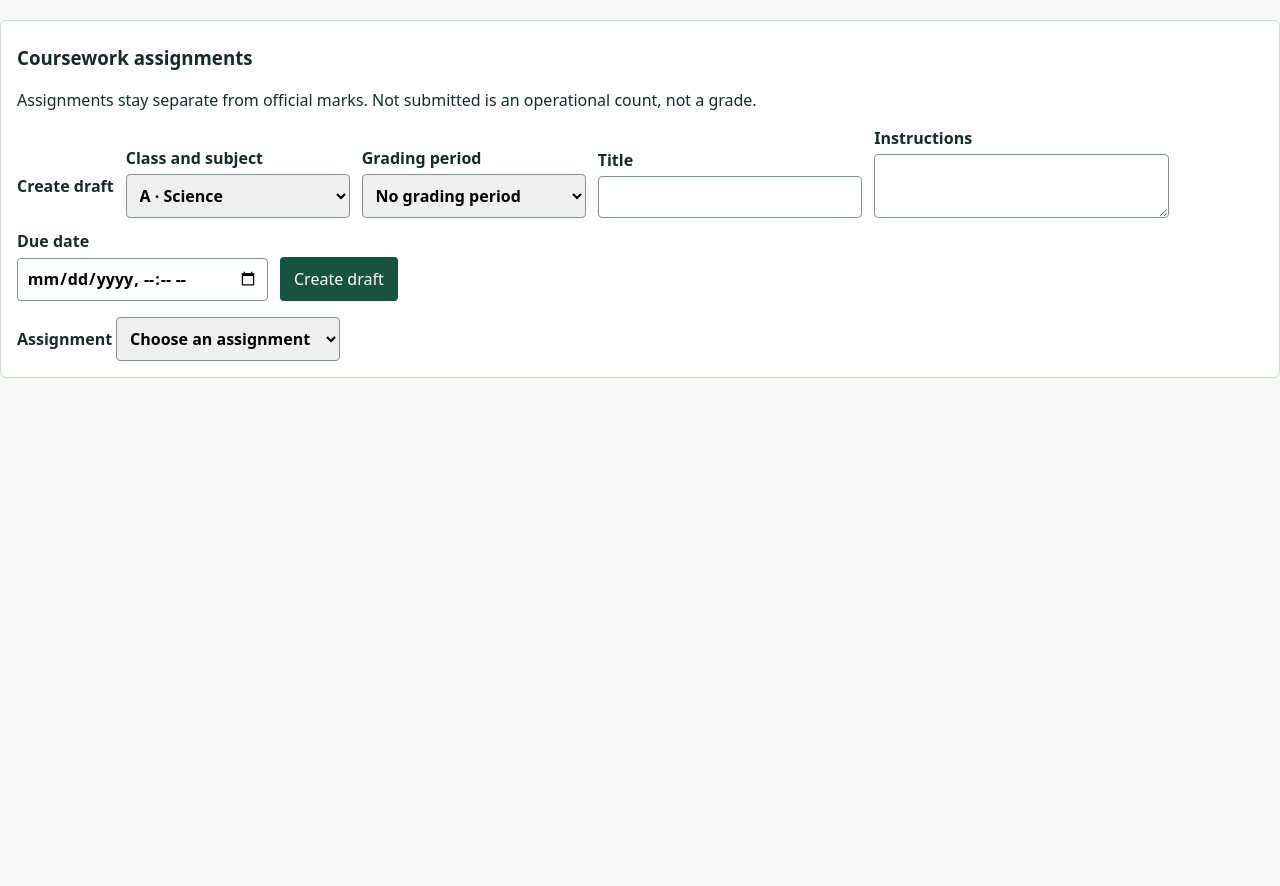
Test: teacher coursework workspace › shows scoped classes, scan state and factual submission counts
Select "Read chapter · draft" in the dropdown labelled "Assignment". click: (228,339)
box: [116,317,340,361]
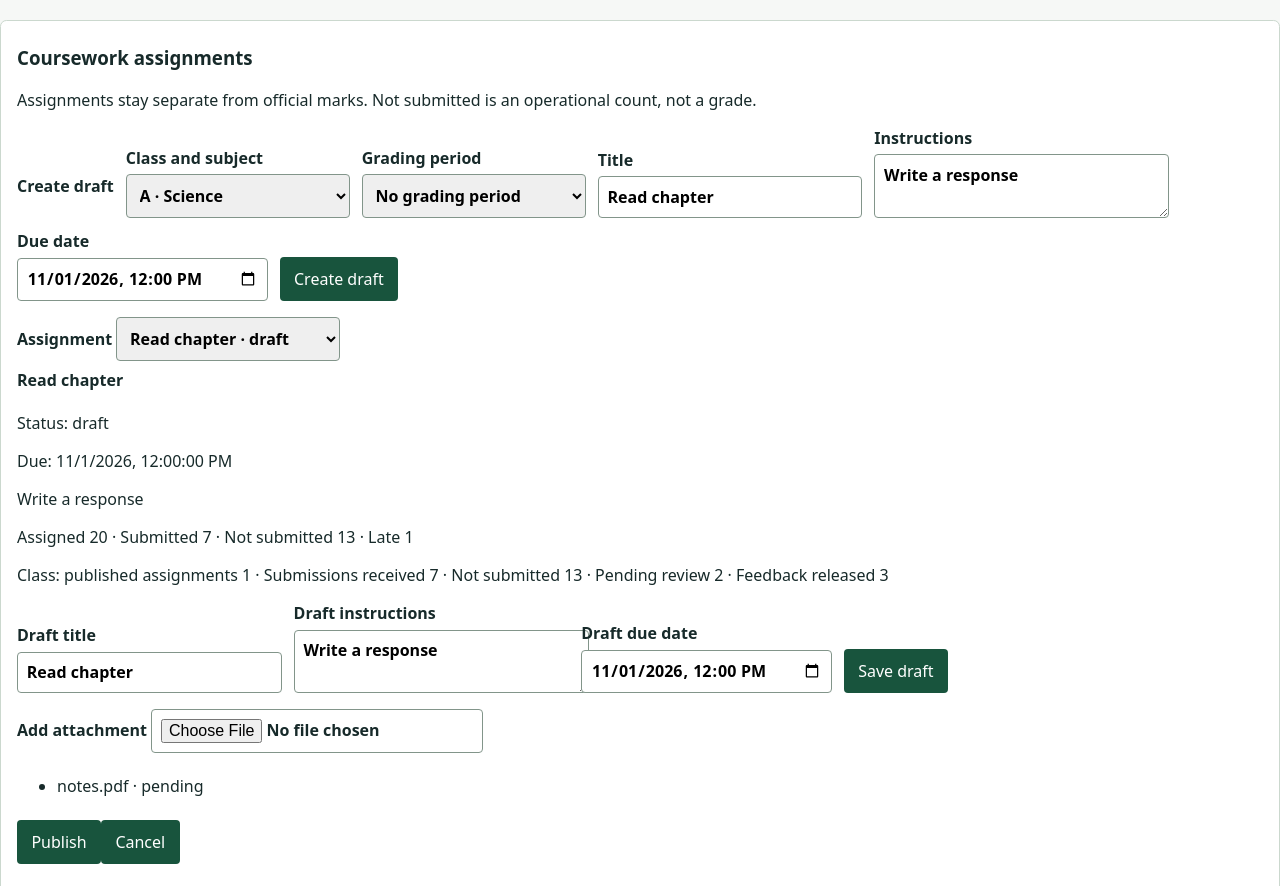
expect the text "Not submitted is an operational count" is shown: met, box [17,89,757,111]
expect the text "Assigned 20 · Submitted 7 · Not submitted 13 · Late 1" is shown: met, box [17,526,414,548]
expect the list item "notes.pdf · pending" is shown: met, box [57,775,204,797]
